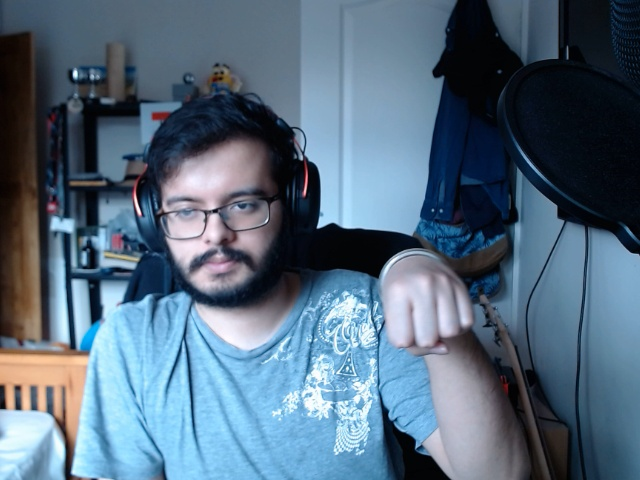Yes: (371, 243, 479, 366)
